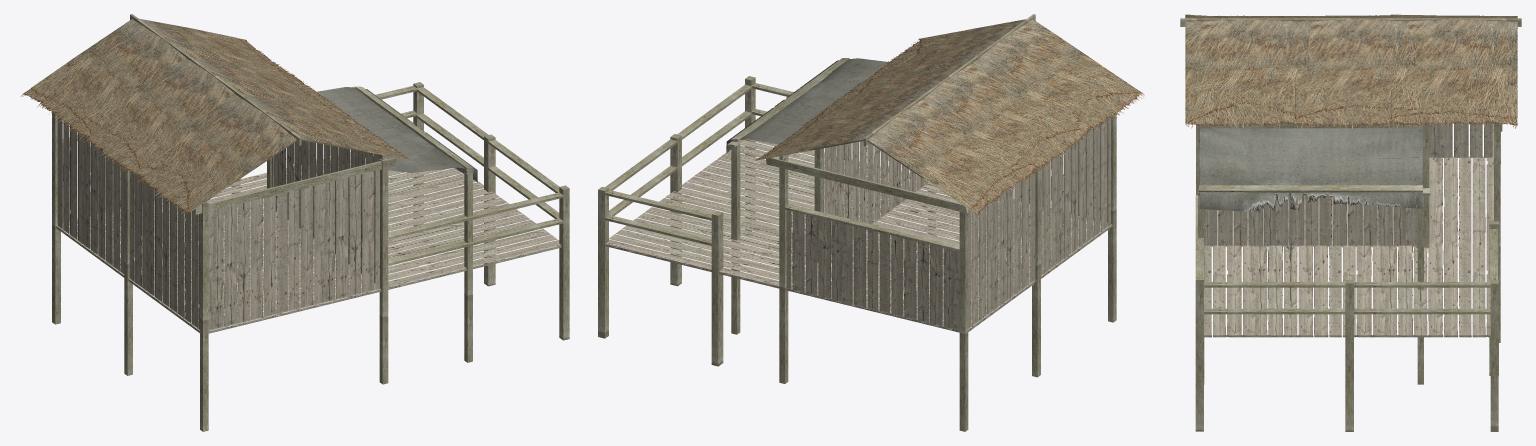
File: jungle-hut.glb
The picture shows the model from 3 angles, left to right: view 1: azimuth 30°, elevation 25°; view 2: azimuth 150°, elevation 25°; view 3: azimuth 270°, elevation 25°; orthographic projection.
Parts seen in each view (by area): view 1: $ColladaAutoName$_0; view 2: $ColladaAutoName$_0; view 3: $ColladaAutoName$_0.
Boxes of the visible parts, <box> form: $ColladaAutoName$_0: <box>20,14,569,431</box>; $ColladaAutoName$_0: <box>598,14,1144,431</box>; $ColladaAutoName$_0: <box>1180,14,1521,431</box>.
Size of the model in its own units: 12.85 by 8.62 by 9.5.
Materials: 4 (4 with a texture image).
